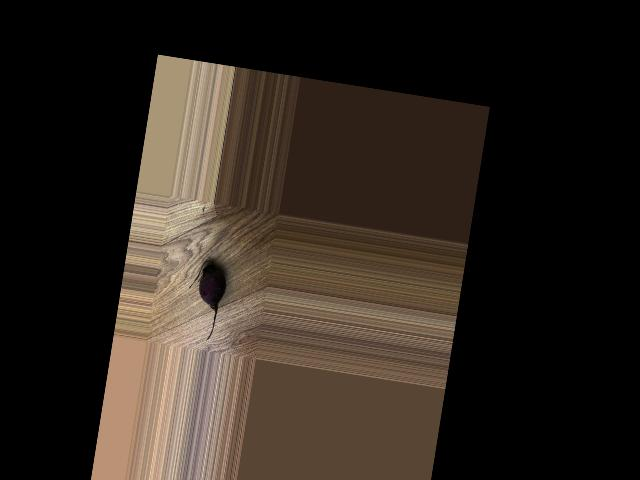beet: (181, 258, 229, 342)
